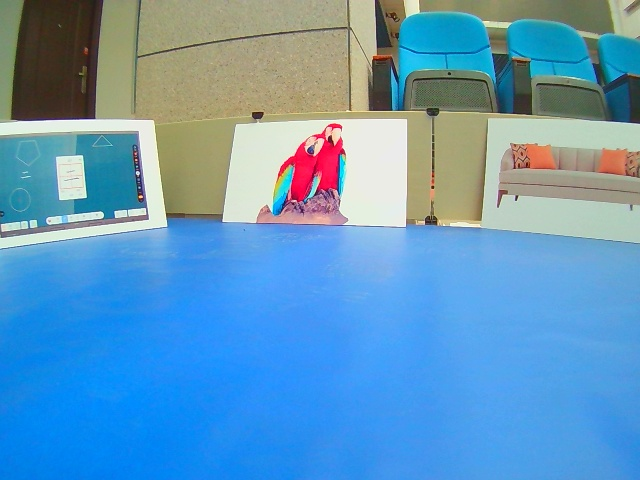pet: (222, 120, 412, 229)
sofa: (481, 115, 640, 244)
tv: (1, 119, 170, 254)
